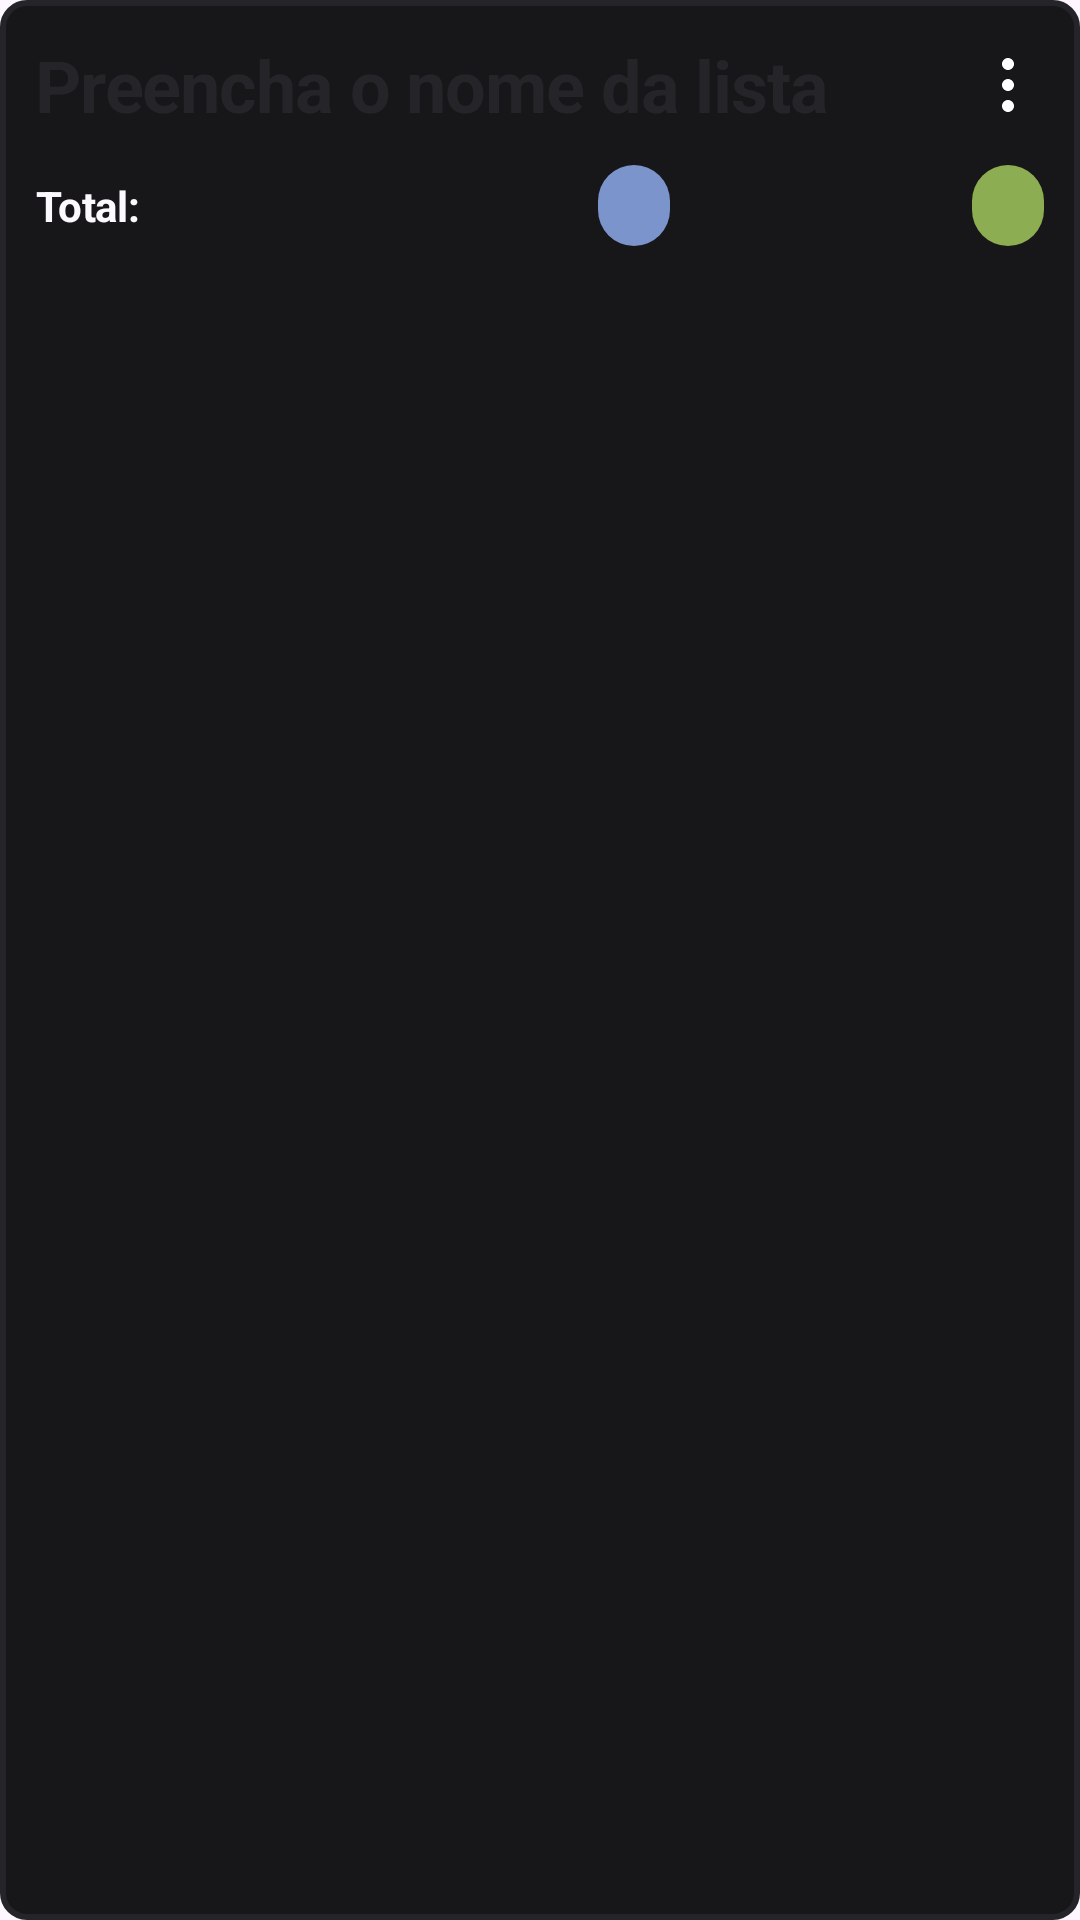

Icon bounding boxes for this 1080px x 1920px phone screenshot, format (x1, y1, x2, y2):
more: (1002, 58, 1014, 112)
